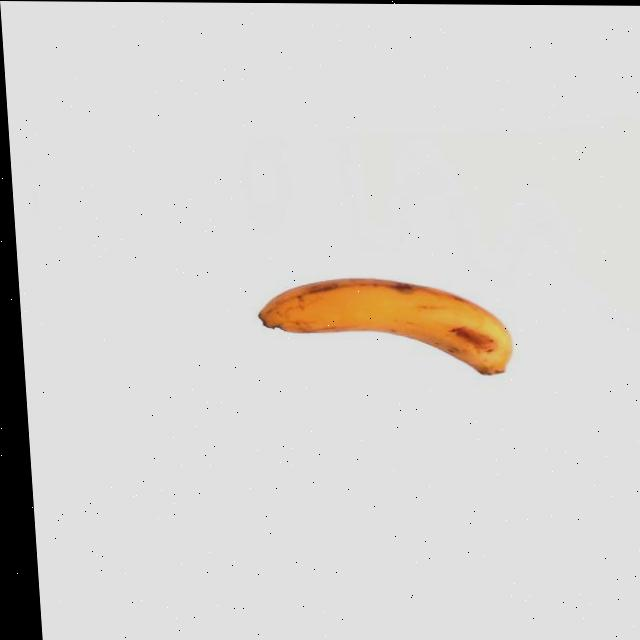banana: (252, 275, 511, 381)
